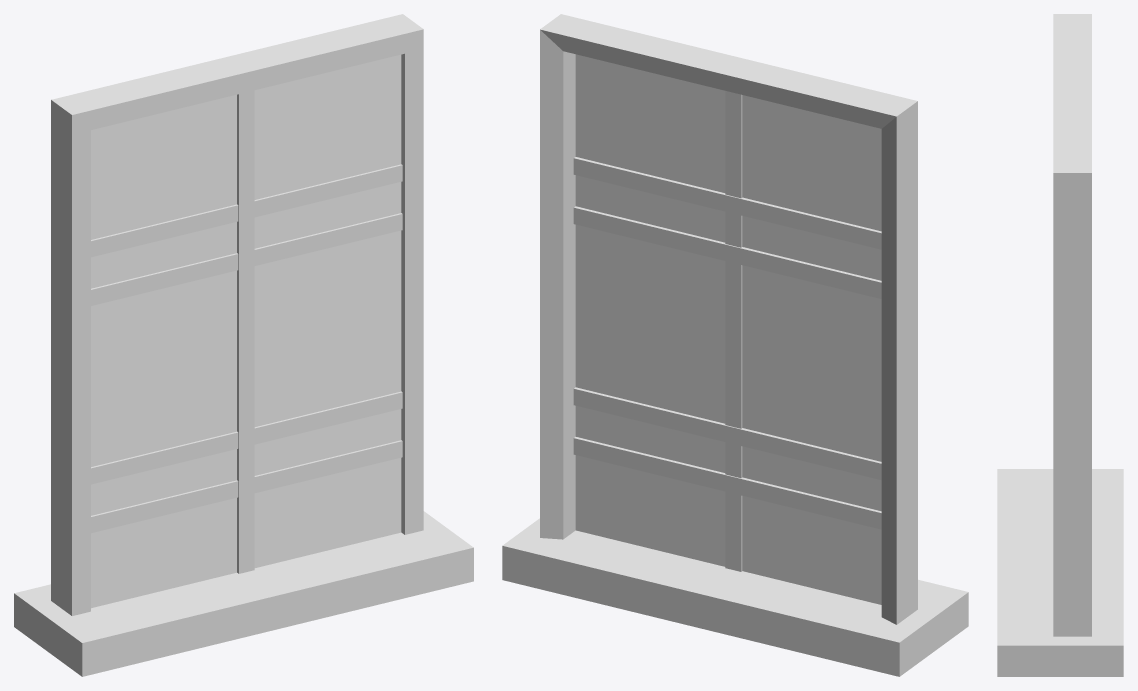
File: window_007.fbx
3 renders of one model, left to right at view 1: azimuth 30°, elevation 25°; view 2: azimuth 150°, elevation 25°; view 3: azimuth 270°, elevation 25°, orthographic. The views are drawn at different scales.
Parts seen in each view (by area): view 1: window_007; view 2: window_007; view 3: window_007.
Part boxes in pixels (left/top/right/bottom): window_007: left=14, top=14, right=473, bottom=676; window_007: left=502, top=14, right=968, bottom=676; window_007: left=997, top=14, right=1123, bottom=676.
Size of the model in its own units: 142 by 42.75 by 185.
